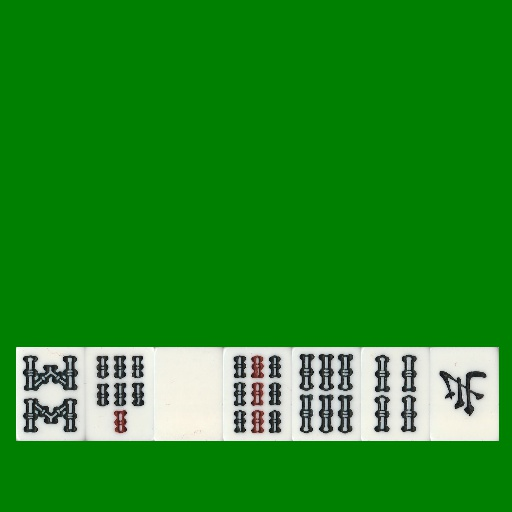4s: (361, 347, 430, 441)
6s: (292, 347, 361, 441)
7s: (85, 347, 154, 441)
8s: (16, 347, 85, 441)
9s: (223, 347, 292, 441)
north: (430, 347, 499, 441)
white: (154, 347, 223, 441)
